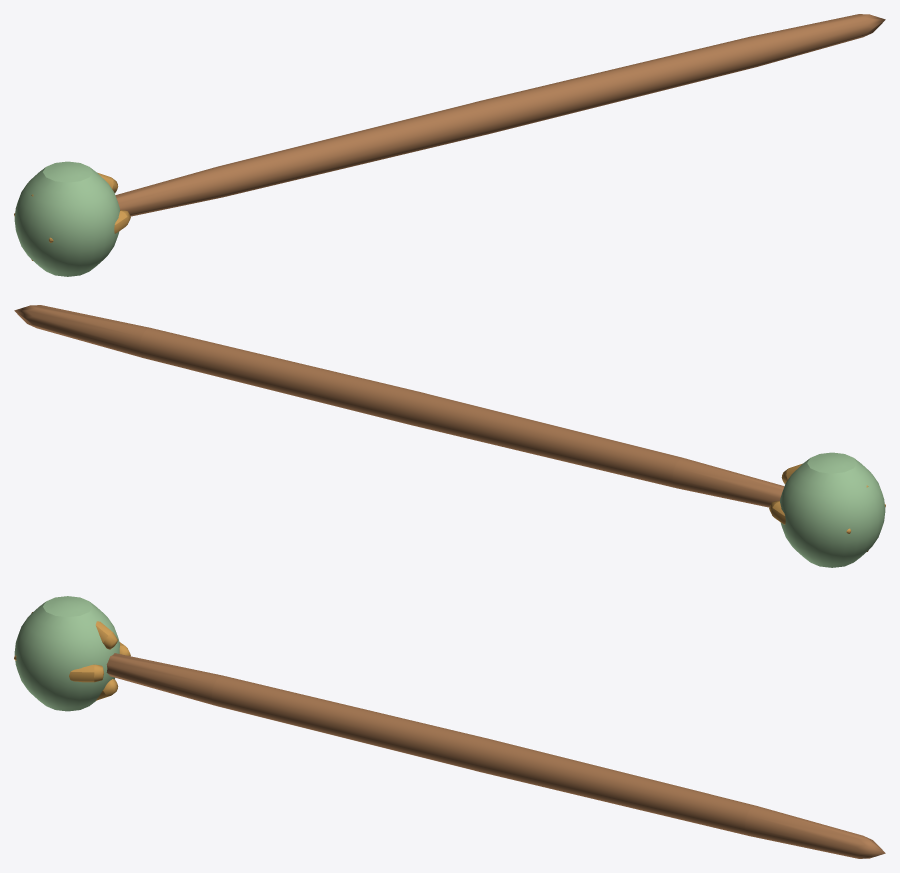
Rendered from weapon_orbstaff.glb.
3 renders of one model, top to bottom at view 1: azimuth 30°, elevation 25°; view 2: azimuth 150°, elevation 25°; view 3: azimuth 330°, elevation 25°, orthographic.
Visible parts, largest first — view 1: weapon_orbstaff; view 2: weapon_orbstaff; view 3: weapon_orbstaff.
Boxes of the visible parts, x1,y1,x2,y2 form: weapon_orbstaff: (14, 14, 885, 276); weapon_orbstaff: (14, 305, 885, 567); weapon_orbstaff: (14, 596, 885, 858).
Bounding box in the file's own units: 1.21 × 0.1362 × 0.1293.
